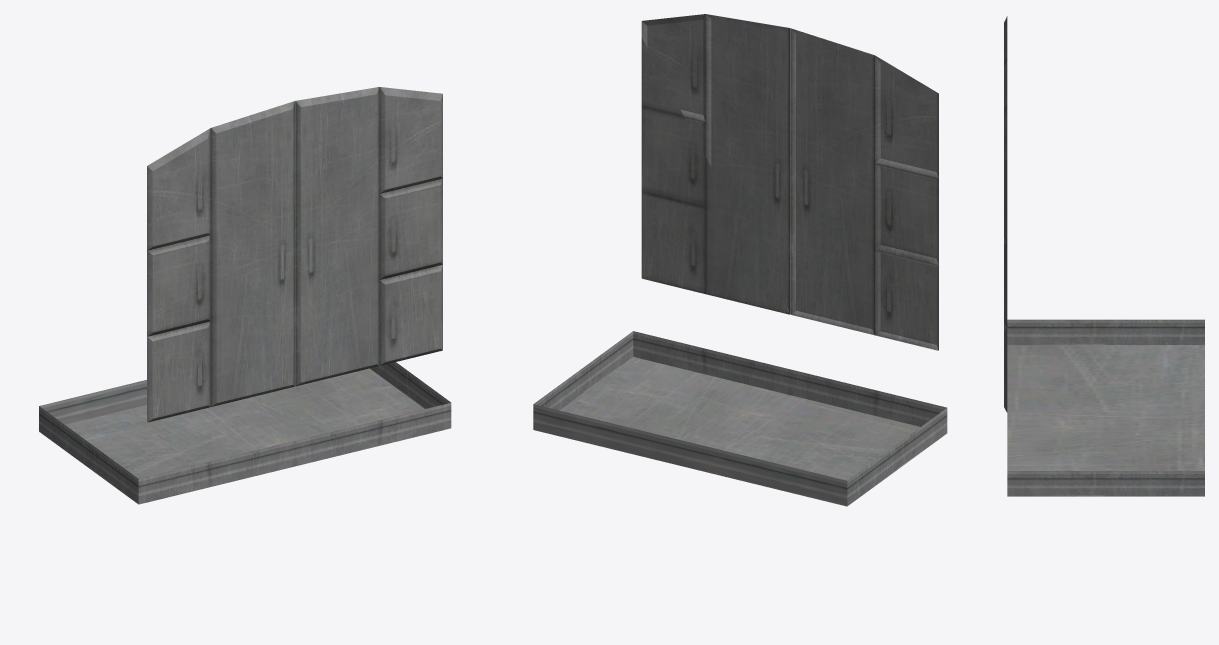
Rendered from frn_all_mdrn_cabinet_s01_l1.fbx.
The picture shows the model from 3 angles, left to right: view 1: azimuth 30°, elevation 25°; view 2: azimuth 150°, elevation 25°; view 3: azimuth 270°, elevation 25°; orthographic projection.
Visible parts, largest first — view 1: mesh_node; view 2: mesh_node; view 3: mesh_node.
Boxes of the visible parts, <box> form: mesh_node: <box>39,87,451,504</box>; mesh_node: <box>533,14,947,506</box>; mesh_node: <box>1004,16,1204,496</box>.
Size of the model in its own units: 1.82 by 2.26 by 0.8523.
